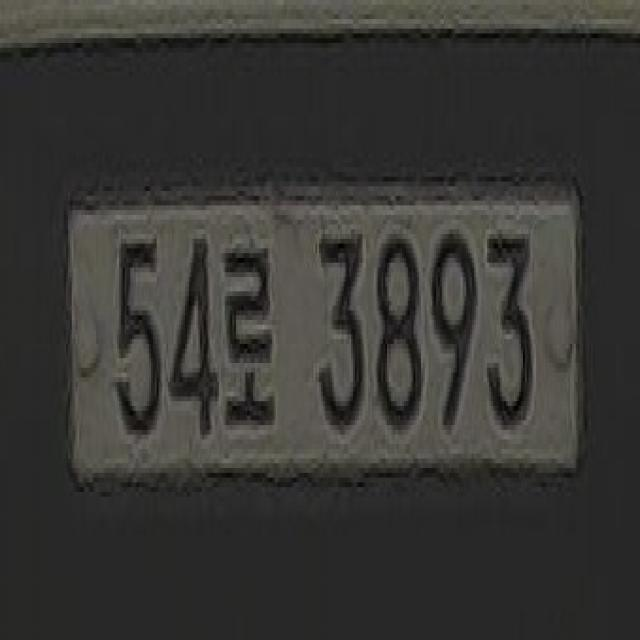3: (313, 181, 370, 473), (482, 215, 536, 463)
4: (168, 201, 225, 463)
5: (106, 201, 162, 458)
8: (372, 201, 434, 468)
9: (425, 215, 489, 473)
license_plate: (62, 163, 587, 507)
lo: (215, 230, 287, 463)
